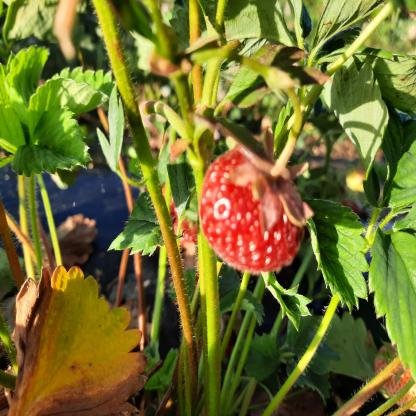ripe: (202, 144, 311, 270)
